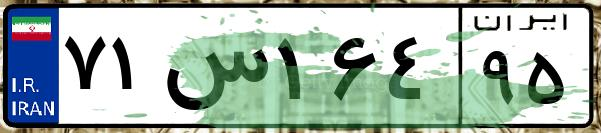1: (270, 28, 330, 110), (110, 28, 158, 98)
4: (385, 28, 445, 110)
5: (525, 38, 570, 115)
6: (330, 28, 385, 110)
7: (57, 26, 110, 100)
9: (475, 38, 525, 113)
س: (158, 20, 270, 120)
